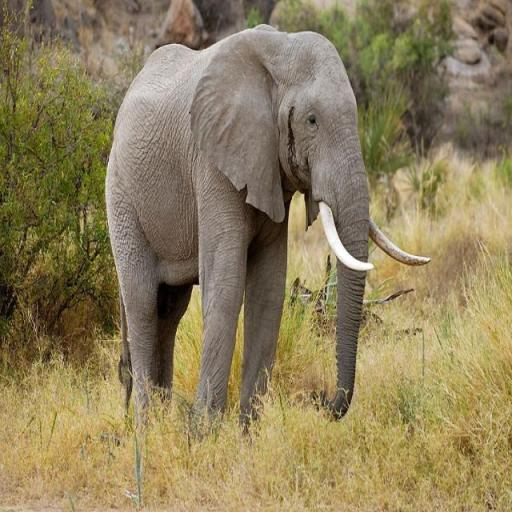Elephant: (104, 22, 430, 442)
